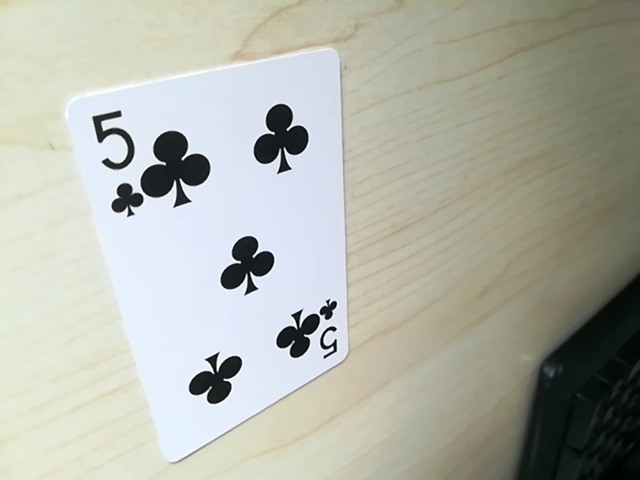mh 5: (84, 101, 145, 223), (291, 297, 343, 367)
